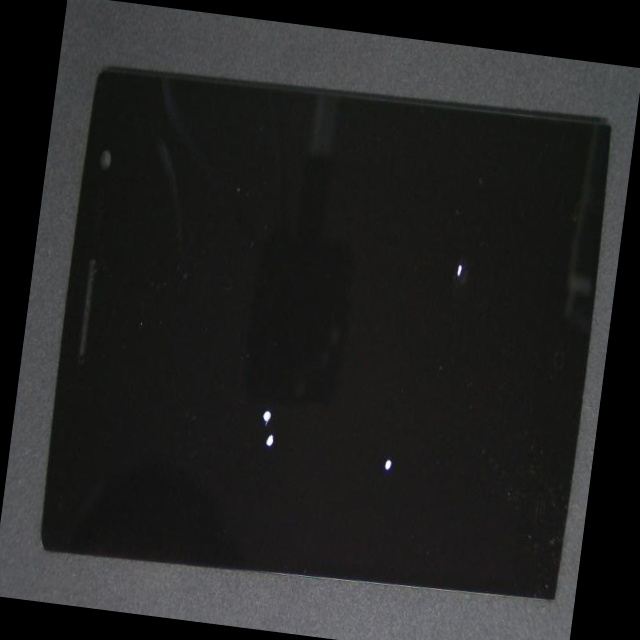stain: (146, 213, 595, 640), (80, 181, 406, 640), (195, 128, 629, 428)
